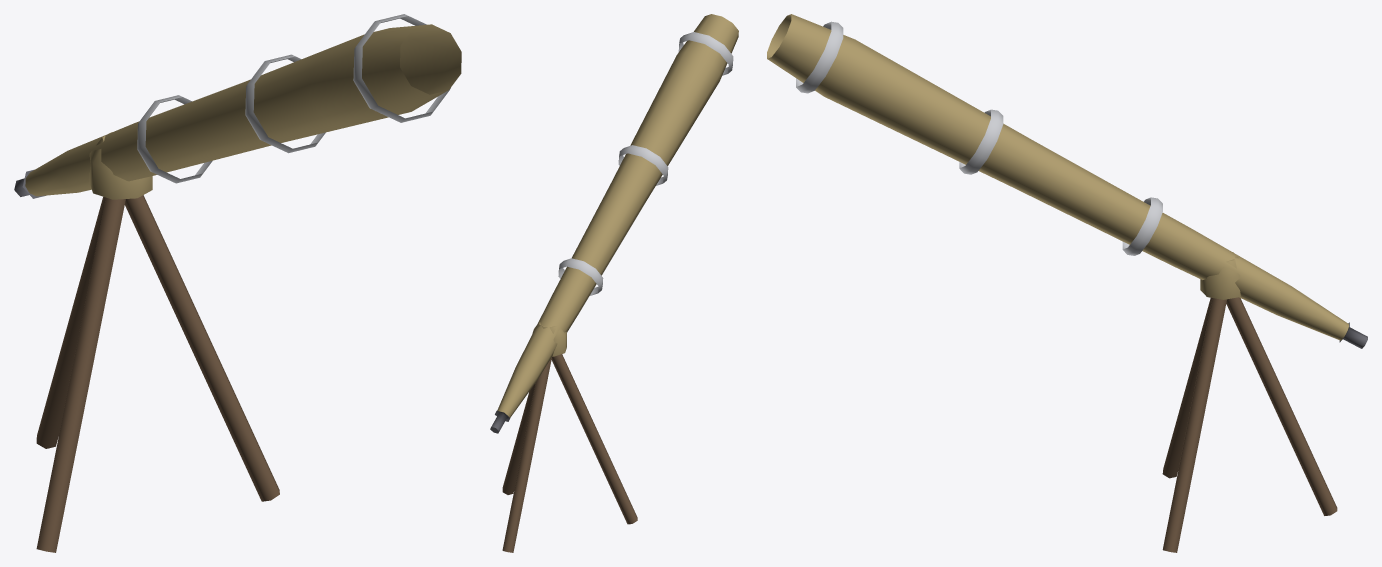
File: Telescope.fbx
3 views of the same model, side by side, from view 1: azimuth 30°, elevation 25°; view 2: azimuth 150°, elevation 25°; view 3: azimuth 270°, elevation 25° (orthographic). The views are drawn at different scales.
Visible parts, largest first — view 1: Telescope; view 2: Telescope; view 3: Telescope.
Boxes of the visible parts, x1,y1,x2,y2 form: Telescope: (14, 14, 461, 552); Telescope: (490, 14, 738, 552); Telescope: (767, 14, 1367, 552).
Bounding box in the file's own units: 0.8627 × 2.35 × 2.58.
